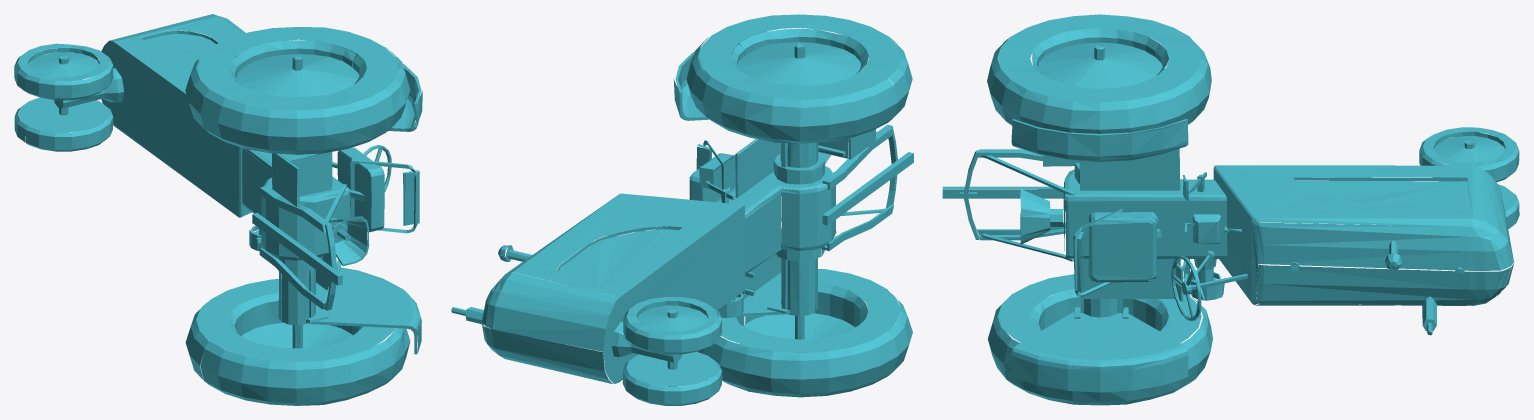
3 views of the same model, side by side, from view 1: azimuth 30°, elevation 25°; view 2: azimuth 150°, elevation 25°; view 3: azimuth 270°, elevation 25° (orthographic). The views are drawn at different scales.
Visible parts, largest first — view 1: Renderer Node; view 2: Renderer Node; view 3: Renderer Node.
Part boxes in pixels (x1,y1,x2,y2): Renderer Node: (14,14,422,405); Renderer Node: (451,14,913,405); Renderer Node: (942,14,1519,405).
Bounding box in the file's own units: 1.13 × 1.22 × 1.95.
Materials: 1 (1 with a texture image).
